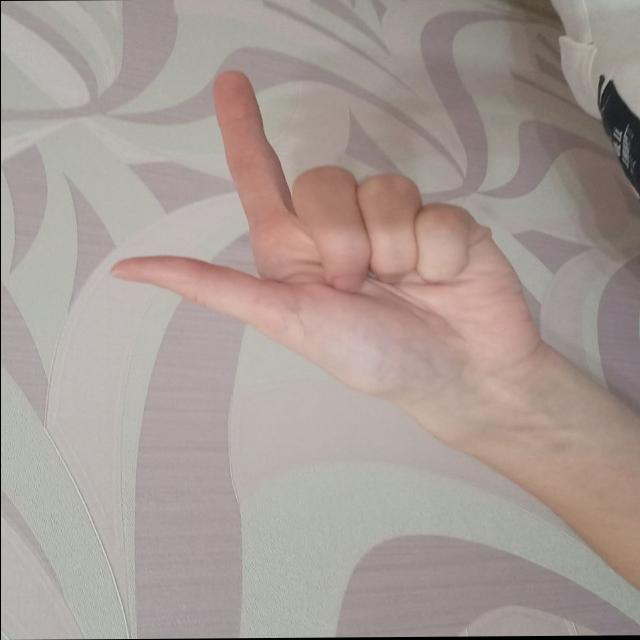g: (93, 67, 558, 391)
